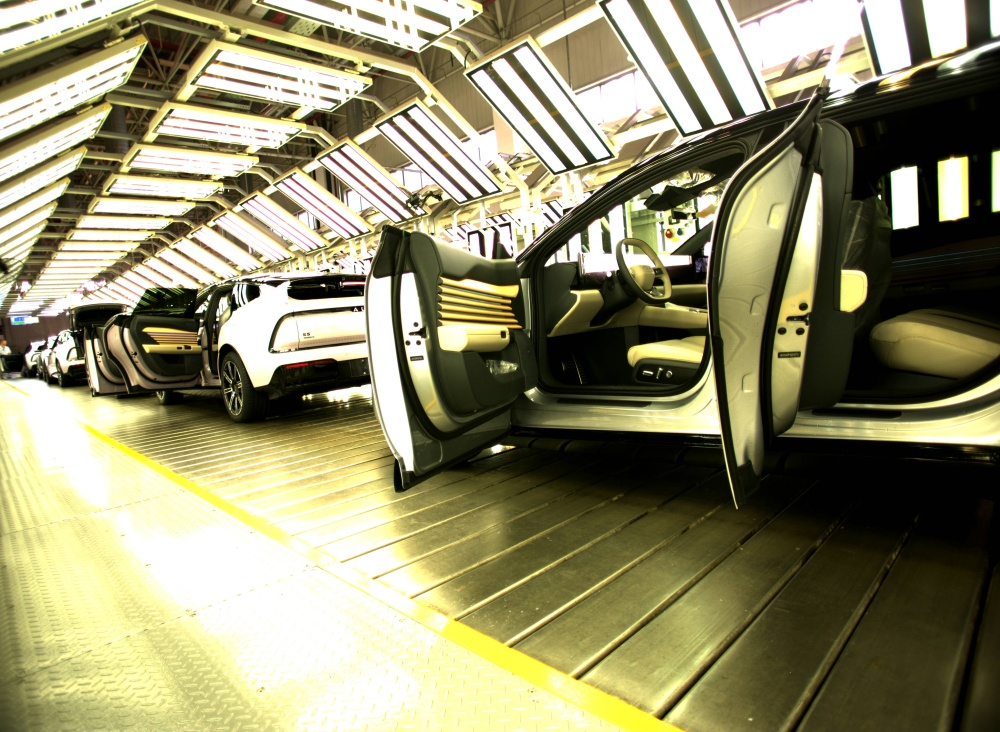armrest_color: (435, 323, 512, 353)
panel_color: (436, 272, 525, 331)
